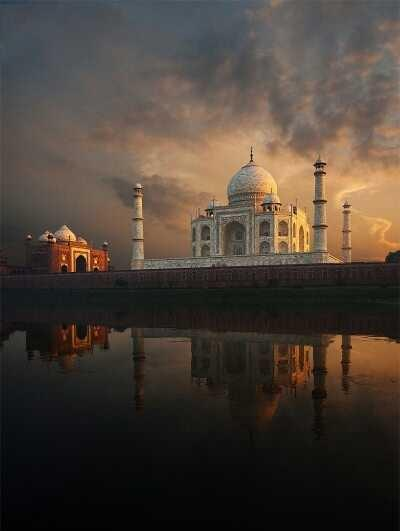Taj_Mahal: (126, 137, 355, 264)
